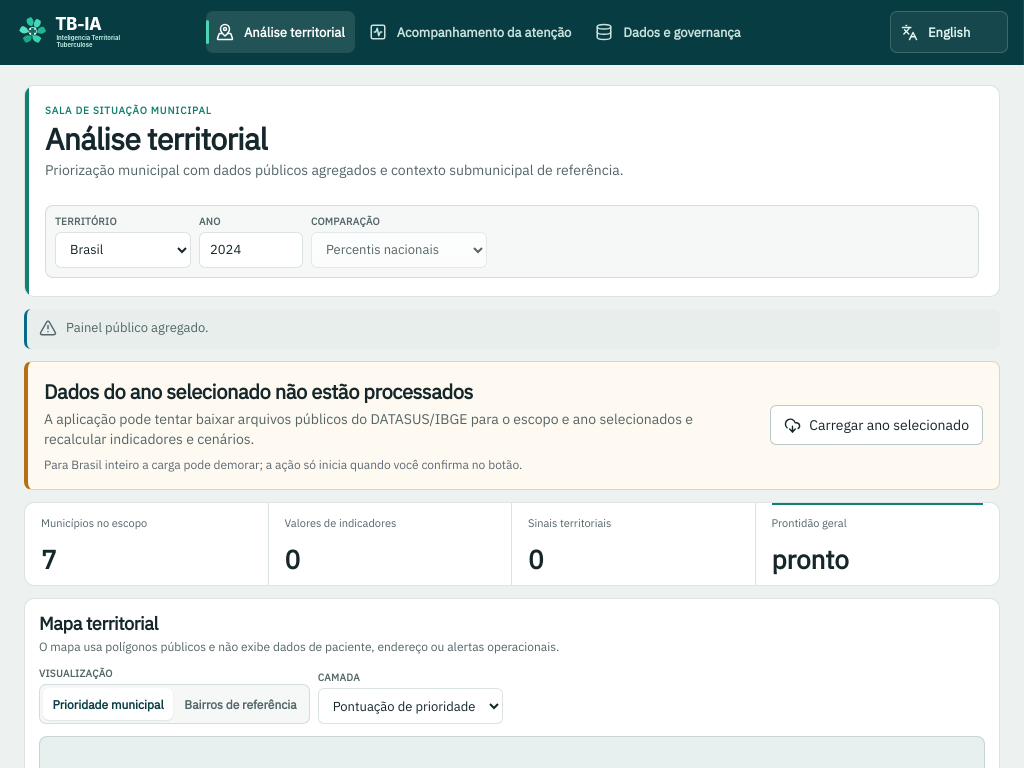
Test: App › shows load-year progress after starting a missing year load
Expected: the heading "Dados do ano selecionado não estão processados" is shown, x1=44 y1=378 x2=473 y2=405
Click the button "Carregar ano selecionado".
click(877, 425)  # box x1=770 y1=405 x2=983 y2=445
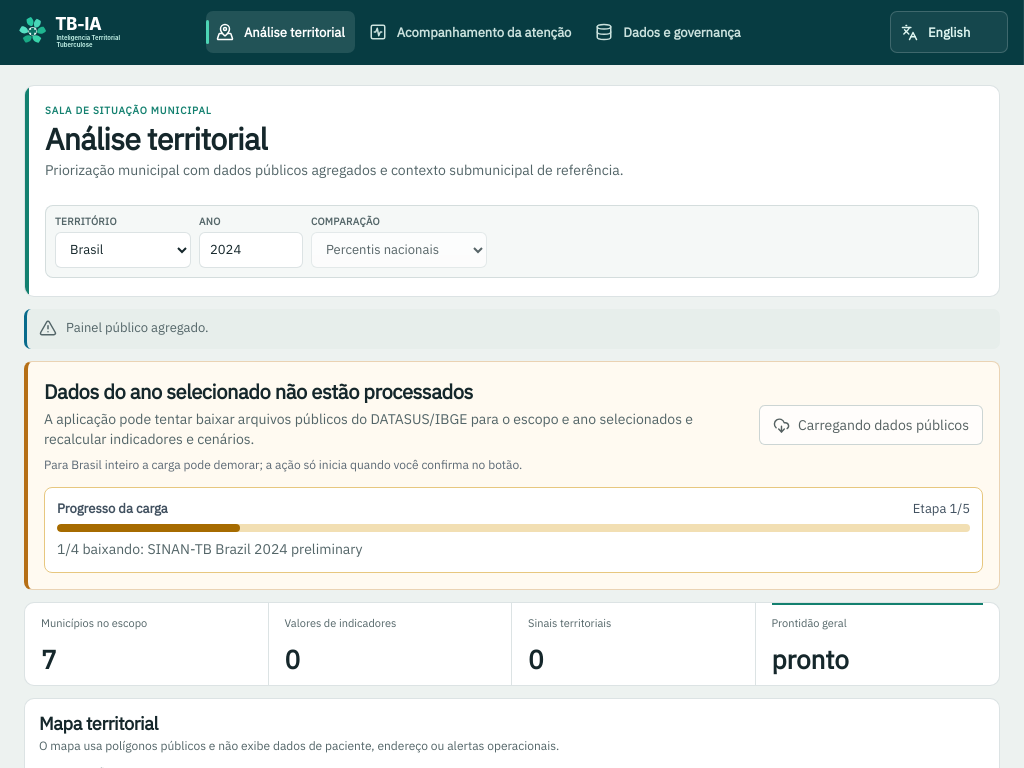
Expected: the text "Progresso da carga" is shown, x1=57 y1=500 x2=168 y2=517
Expected: the text "1/4 baixando: SINAN-TB Brazil 2024 preliminary" is shown, x1=57 y1=540 x2=363 y2=558
